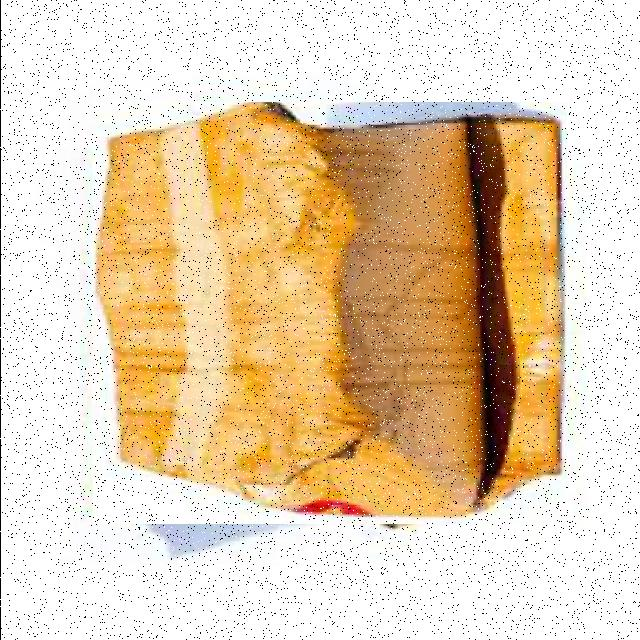defect: (92, 102, 566, 524)
